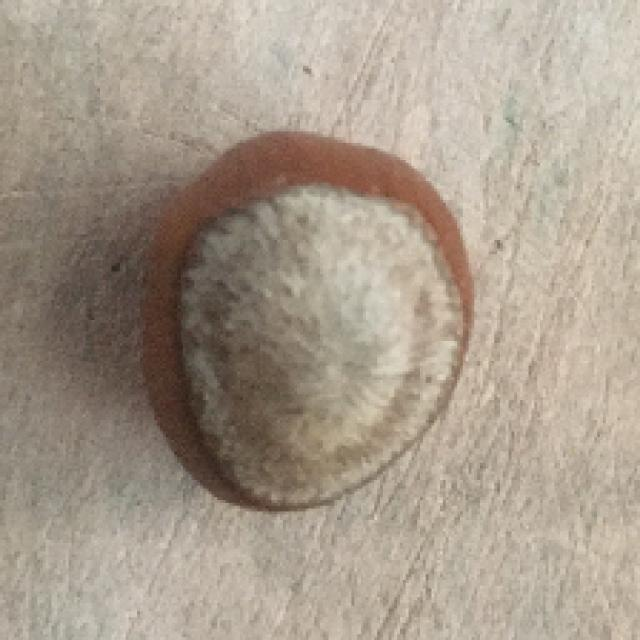QualityHazelnut: (133, 133, 479, 508)
